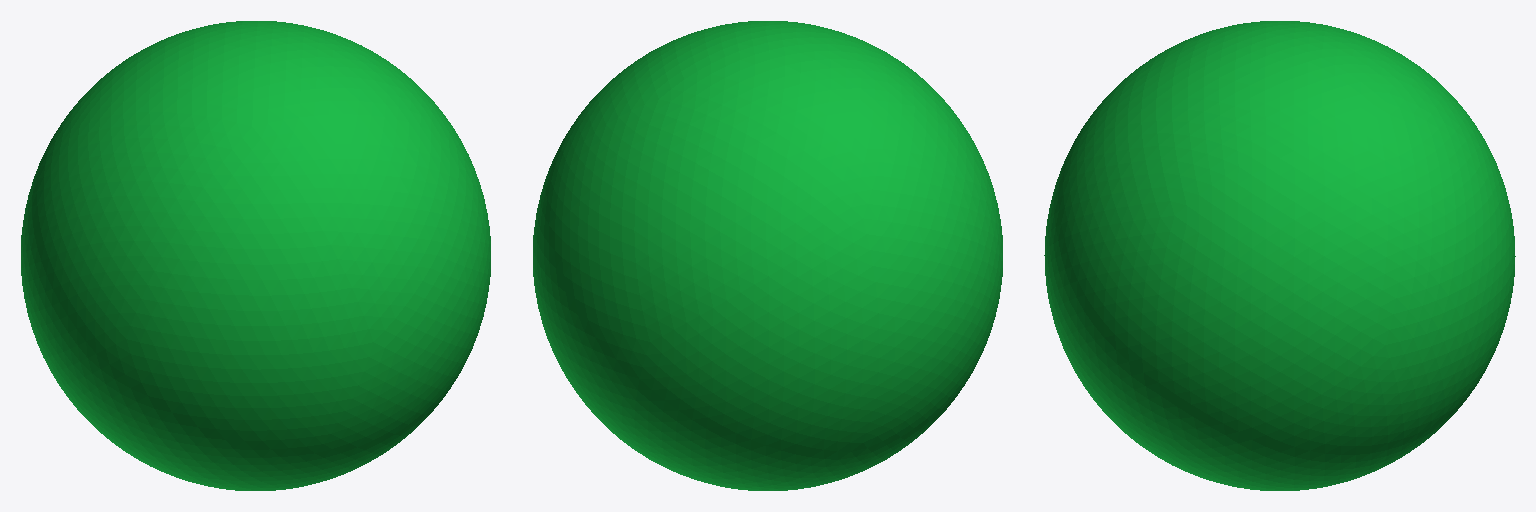
File: bulle1.obj
The picture shows the model from 3 angles: view 1: azimuth 30°, elevation 25°; view 2: azimuth 150°, elevation 25°; view 3: azimuth 270°, elevation 25°; orthographic projection.
Visible parts, largest first — view 1: Object.1; view 2: Object.1; view 3: Object.1.
Part boxes in pixels (bbox=[...]): Object.1: bbox=[21, 21, 490, 490]; Object.1: bbox=[533, 21, 1002, 490]; Object.1: bbox=[1044, 21, 1515, 490].
Bounding box in the file's own units: 40 × 40 × 40.